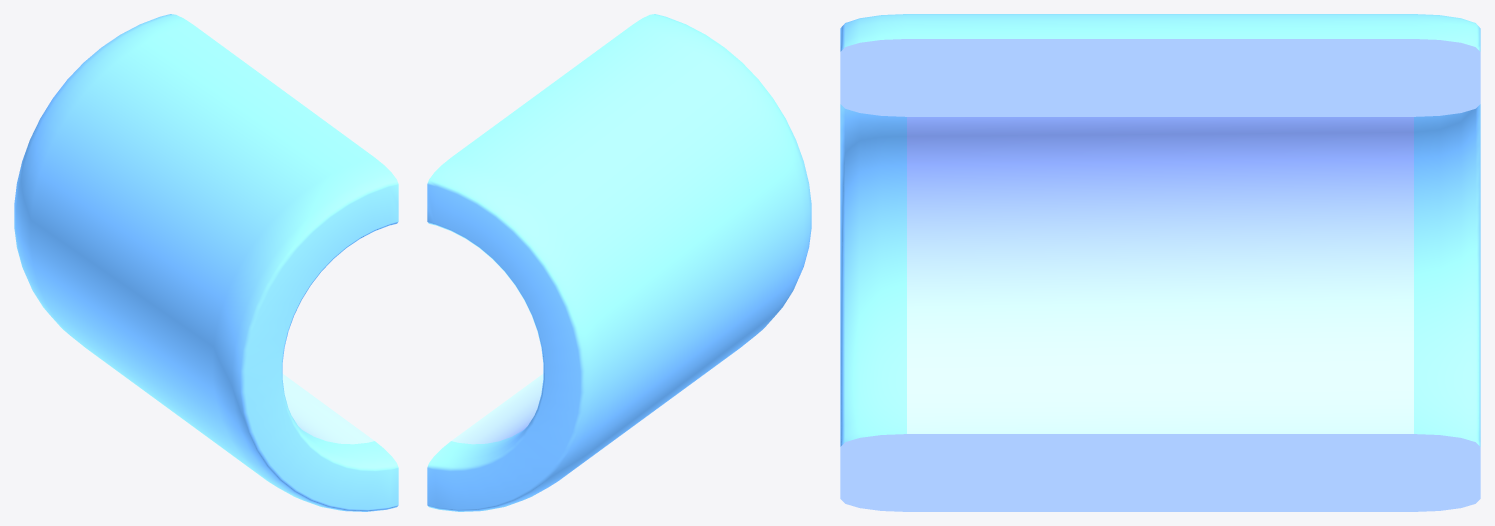
The picture shows the model from 3 angles, left to right: view 1: azimuth 30°, elevation 25°; view 2: azimuth 150°, elevation 25°; view 3: azimuth 270°, elevation 25°; orthographic projection. The views are drawn at different scales.
Parts seen in each view (by area): view 1: TubeVert-left; view 2: TubeVert-left; view 3: TubeVert-left.
Boxes of the visible parts, box(x1,y1,x2,y2) form: TubeVert-left: box(14, 14, 398, 511); TubeVert-left: box(427, 14, 811, 511); TubeVert-left: box(840, 14, 1480, 511).
Bounding box in the file's own units: 0.0249 × 0.0497 × 0.061.
